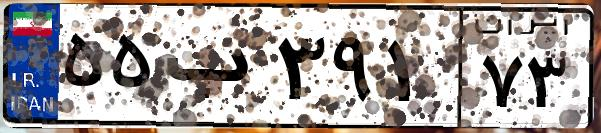1: (385, 28, 445, 110)
3: (270, 28, 330, 110), (525, 38, 570, 115)
5: (57, 26, 110, 100), (110, 28, 158, 98)
7: (475, 38, 525, 113)
9: (330, 28, 385, 110)
ب: (158, 20, 270, 120)
